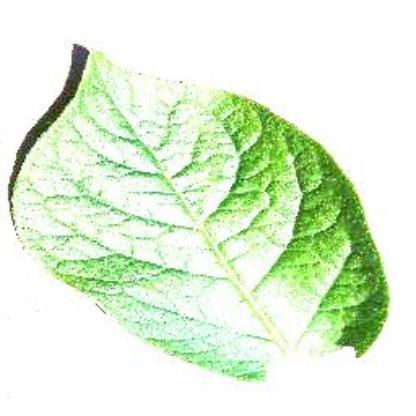Healthy-plant: (13, 43, 389, 387)
